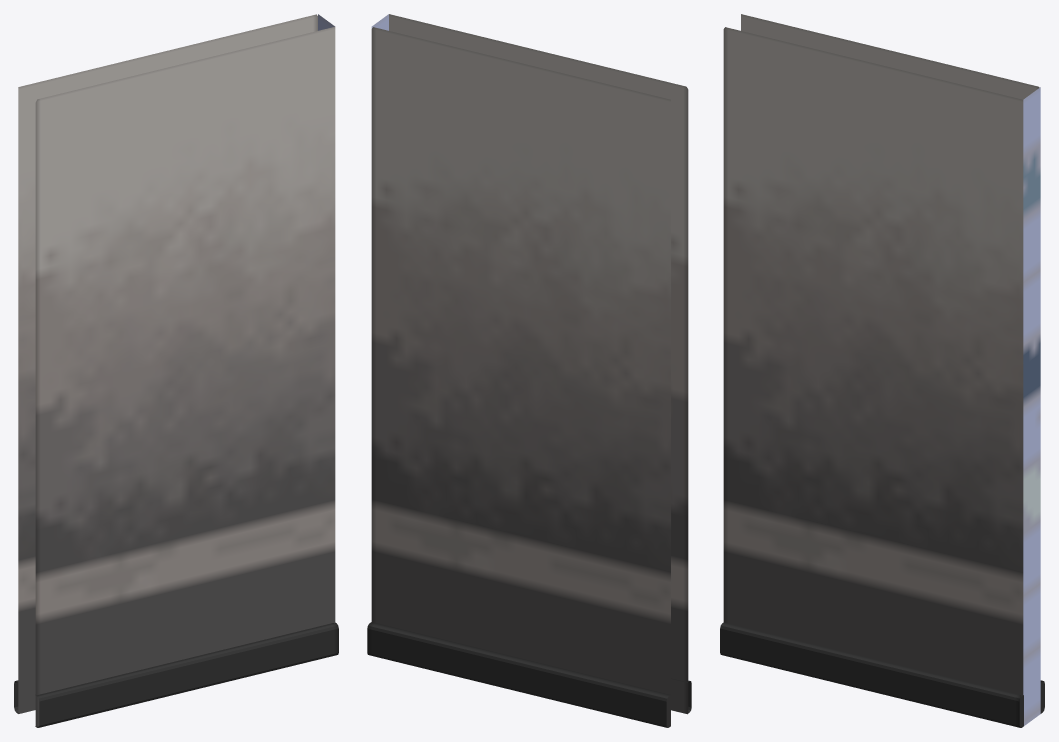
Rendered from Wall_TipoC_5.fbx.
3 renders of one model, left to right at view 1: azimuth 30°, elevation 25°; view 2: azimuth 150°, elevation 25°; view 3: azimuth 330°, elevation 25°, orthographic.
Parts seen in each view (by area): view 1: Cube.052, Cube.128; view 2: Cube.052, Cube.130; view 3: Cube.052, Cube.128.
Part boxes in pixels (left/top/right/bottom): Cube.052: left=18, top=14, right=335, bottom=726; Cube.128: left=35, top=622, right=338, bottom=727; Cube.052: left=371, top=14, right=688, bottom=725; Cube.130: left=367, top=622, right=670, bottom=727; Cube.052: left=723, top=14, right=1040, bottom=725; Cube.128: left=720, top=622, right=1023, bottom=727.
Size of the model in its own units: 200 by 400 by 28.98.
